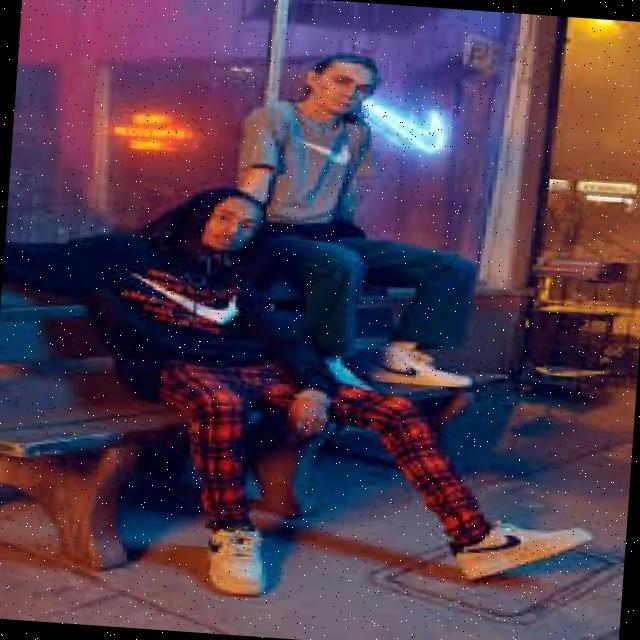Nike: (130, 269, 248, 325), (352, 95, 457, 151), (460, 522, 528, 557)
